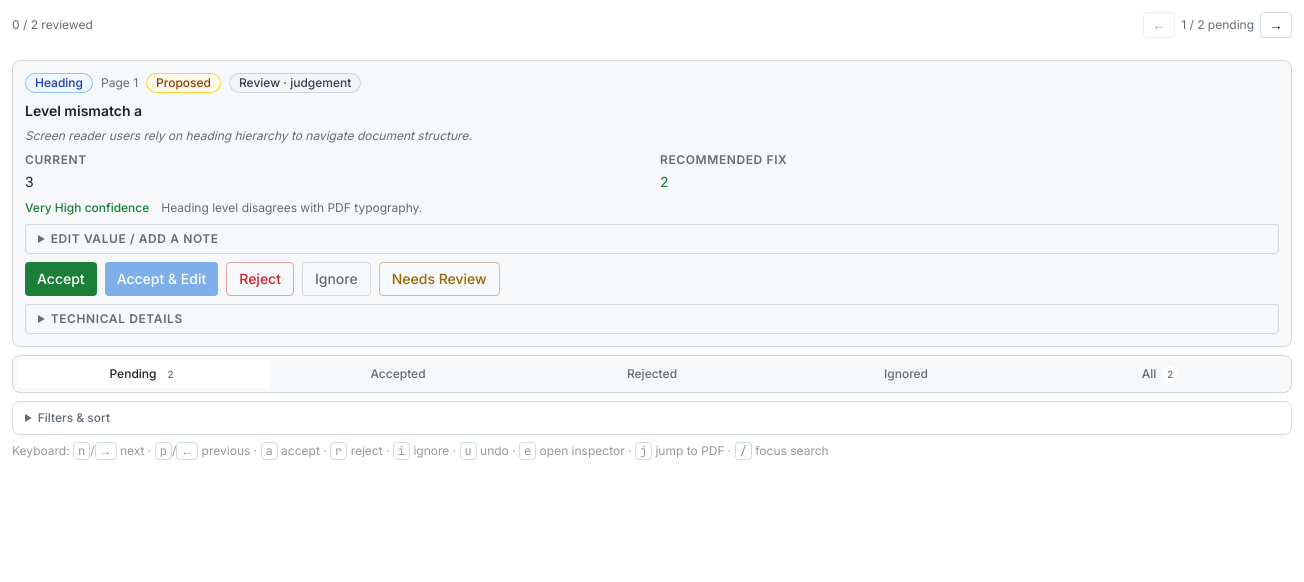
Test: ReviewerWorkspace batch review › puts the proposal above collapsed filters, and still reaches them by keyboard
Press /
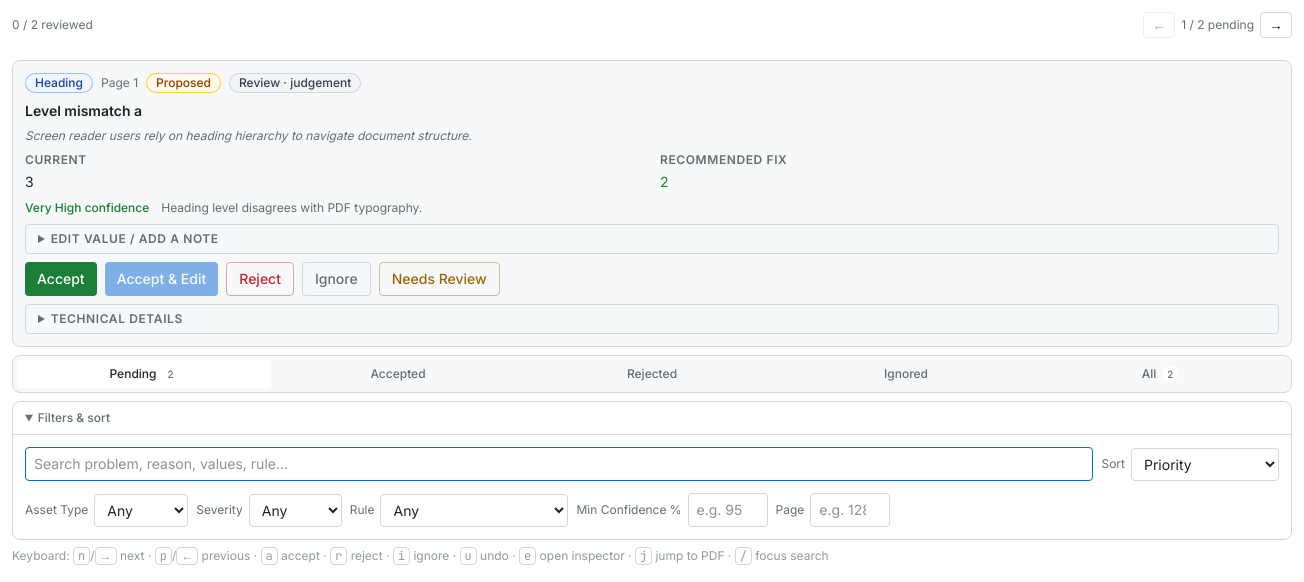
Type "mismatch" into the field named "Search corrections".
click(559, 464); type("mismatch")  # box [25,447,1094,481]
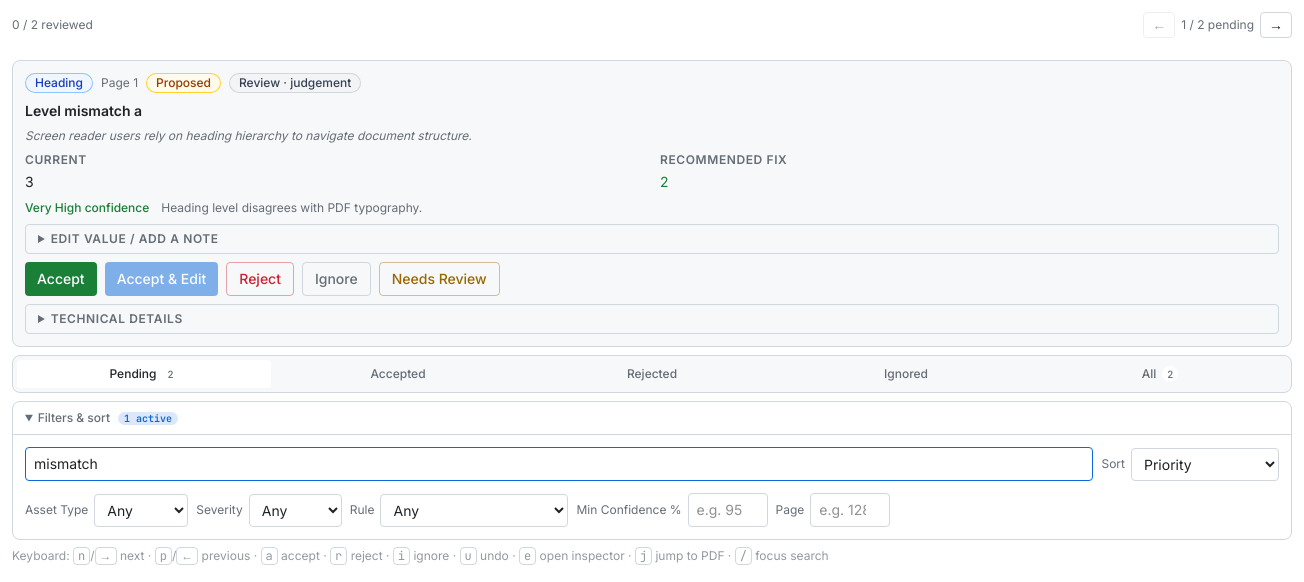
Result: the heading "Filters & sort1 active" is shown at [38,410,178,425]
